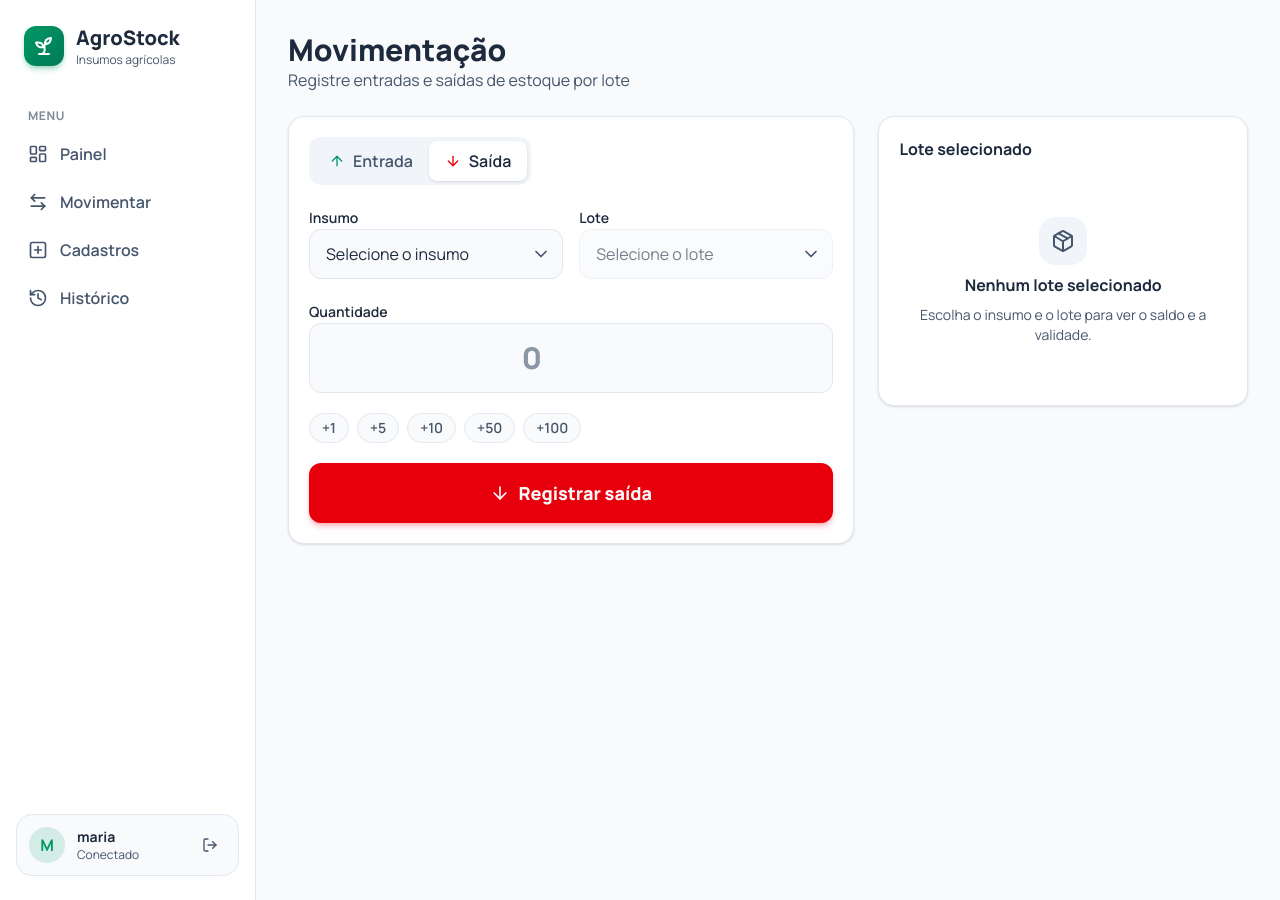
Scenario: Movimentação › F23 saída válida envia a operação e exibe o novo saldo
Select "Semente Milho" in the dropdown labelled "Insumo" at (436, 254), box [309,229,563,279]
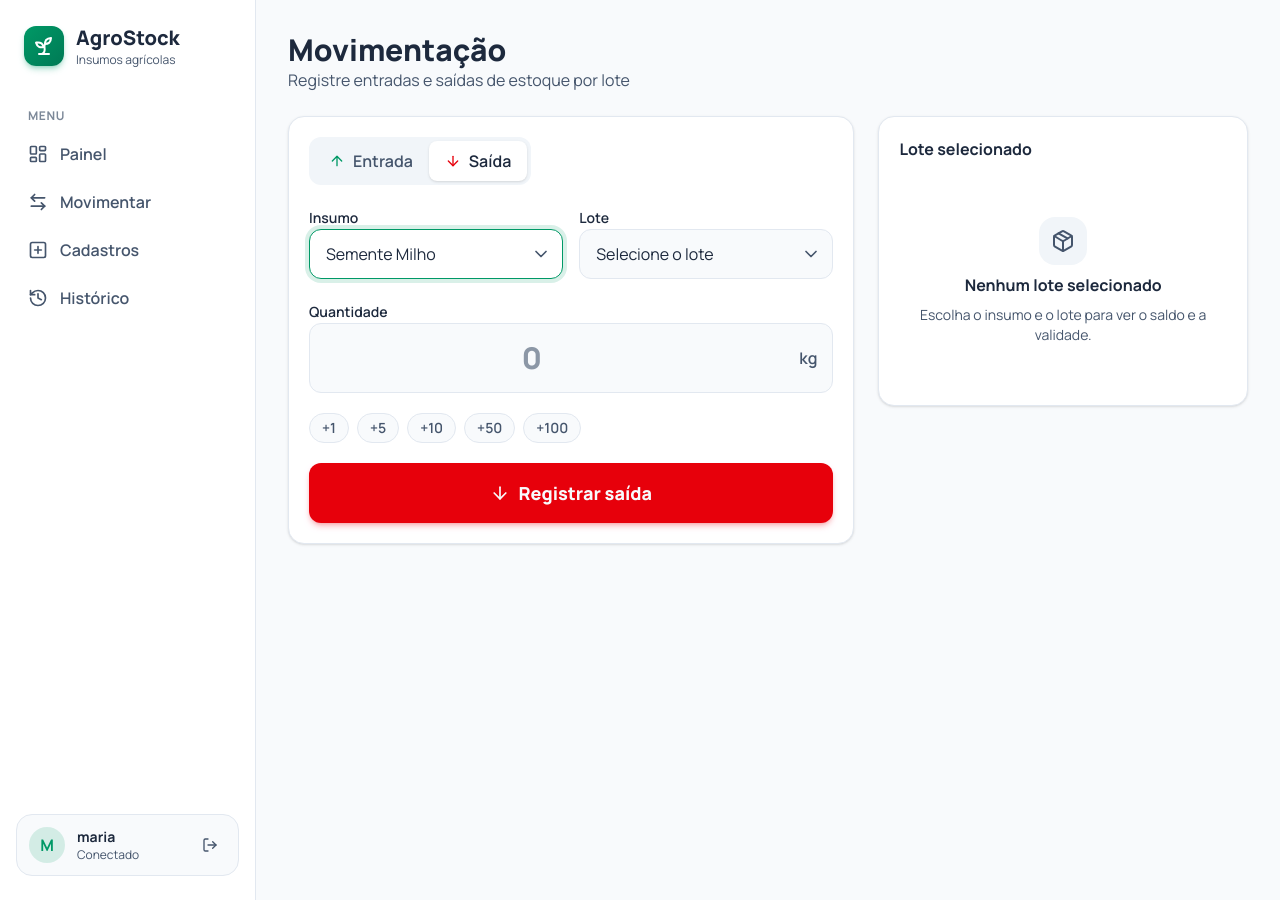
Select "L-01 · saldo 70" in the dropdown labelled "Lote" at (706, 254), box [579,229,833,279]
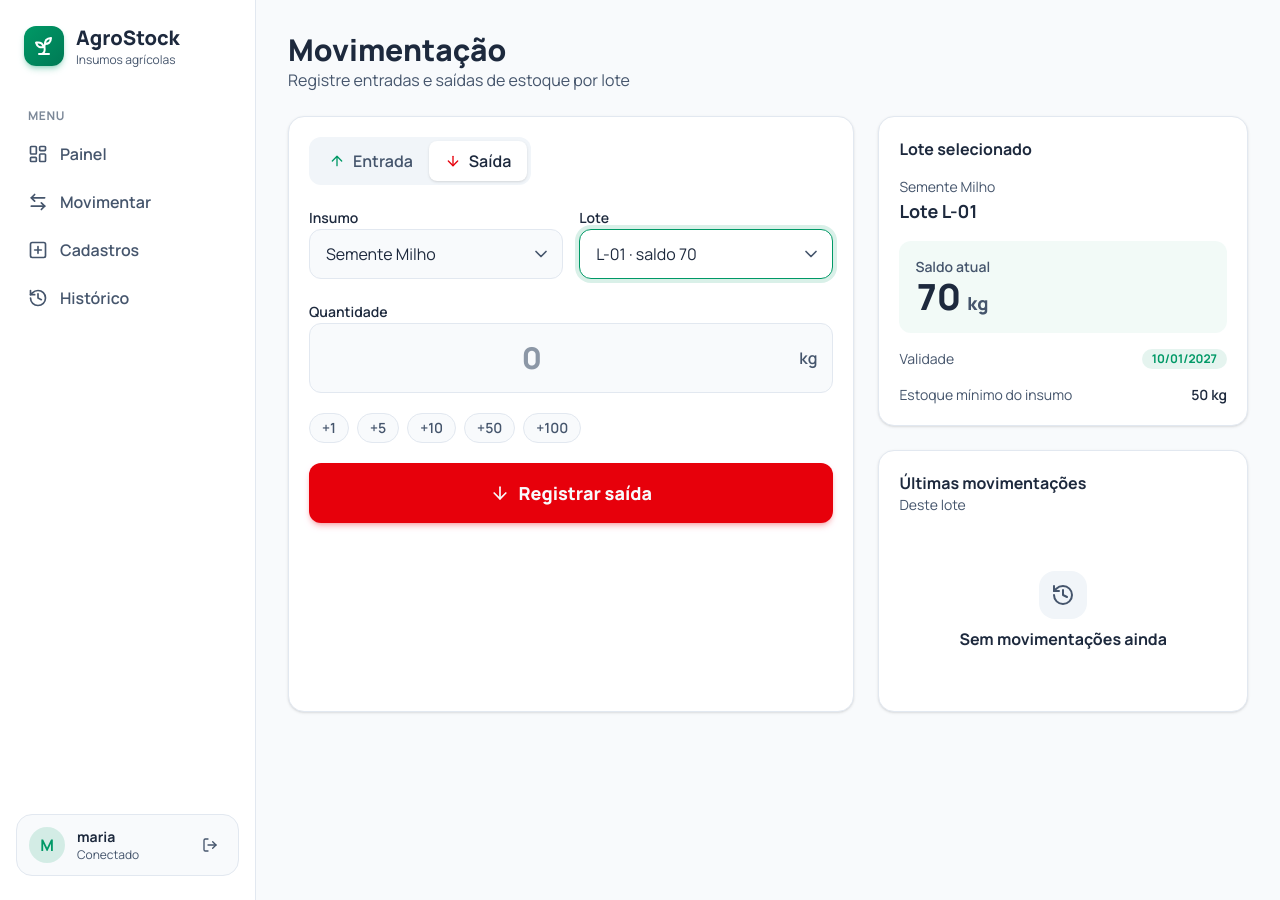
Type "30" into the number field with placeholder "0" at (571, 358), box [309,323,833,393]
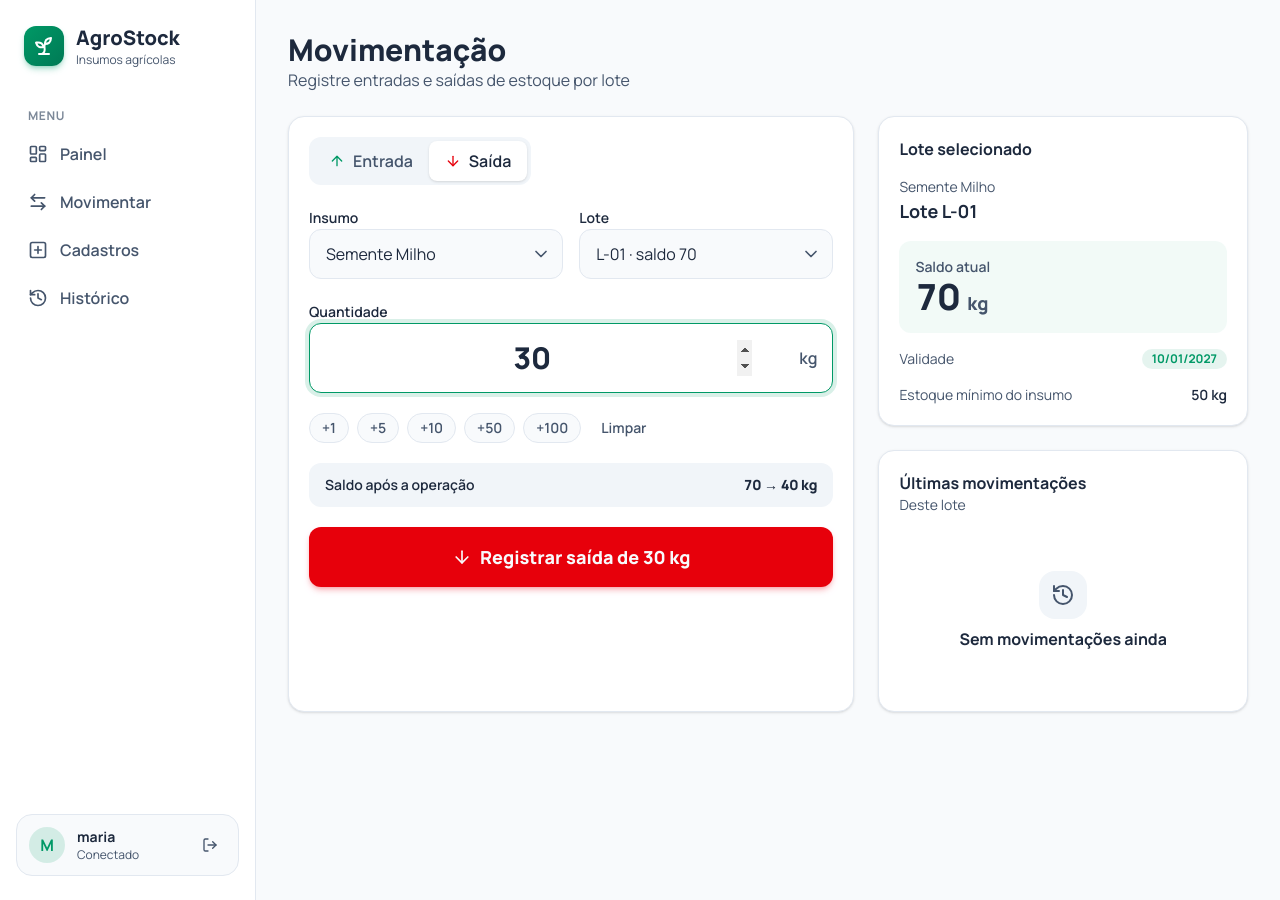
Expected: the text "70 → 40 kg" is shown, [744,475,817,495]
Click the button "Registrar saída de 30 kg" at (571, 557), box [309,527,833,587]
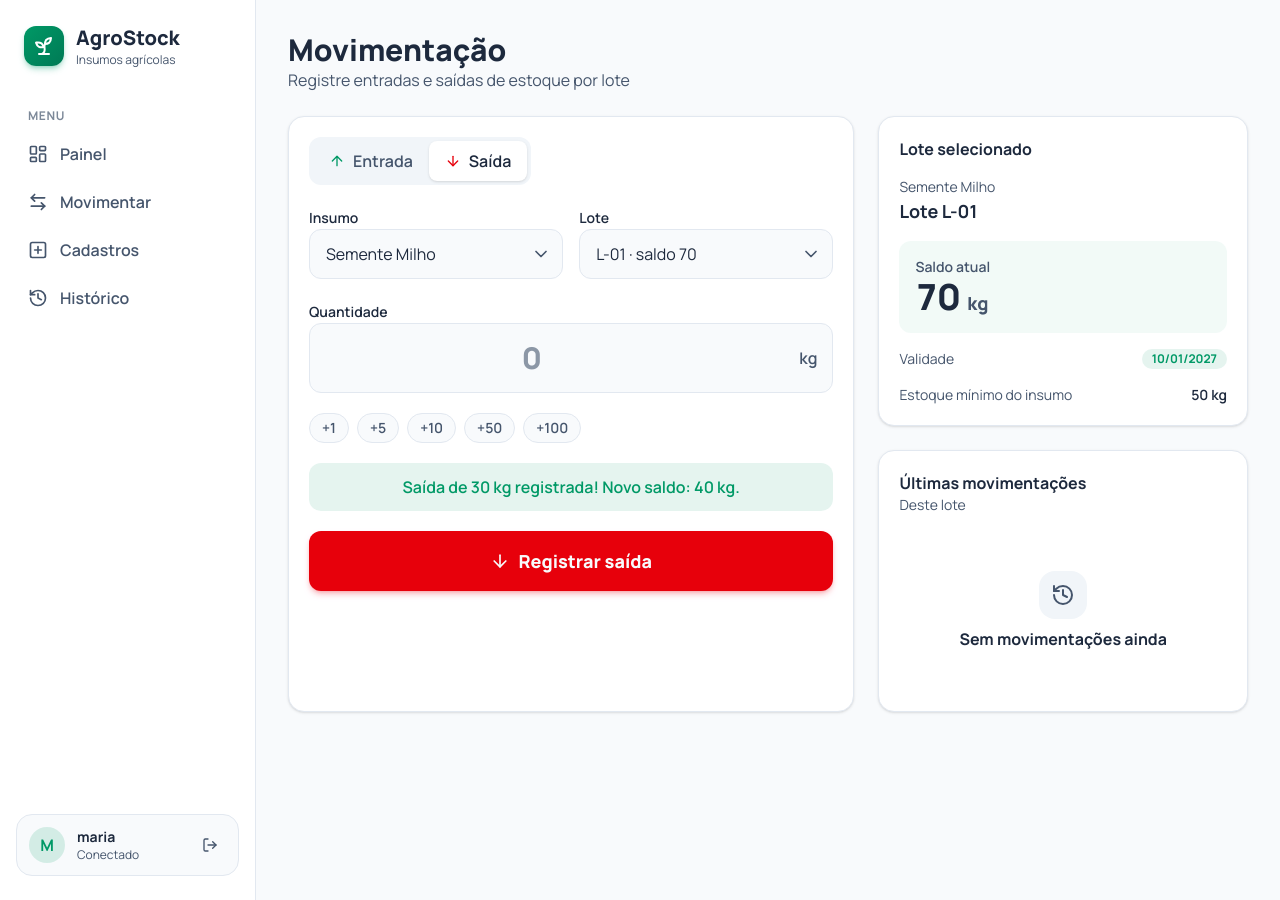
Expected: the text "Saída de 30 kg registrada! Novo saldo: 40 kg." is shown, [309,463,833,511]
